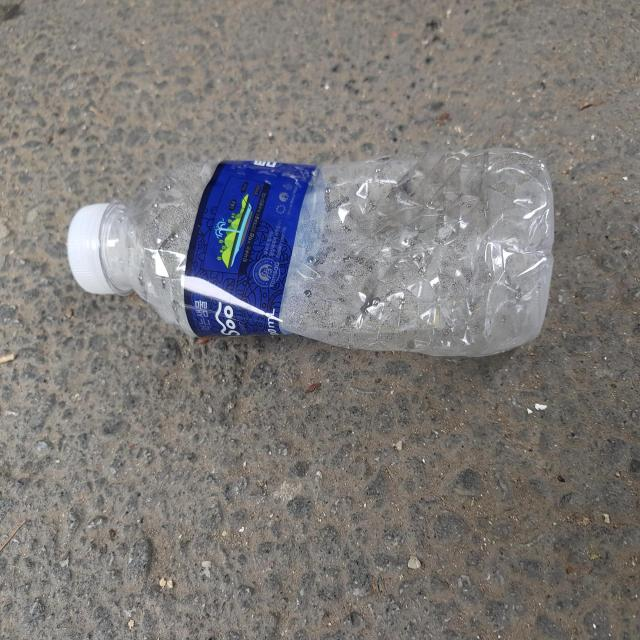plastic: (67, 148, 555, 356)
